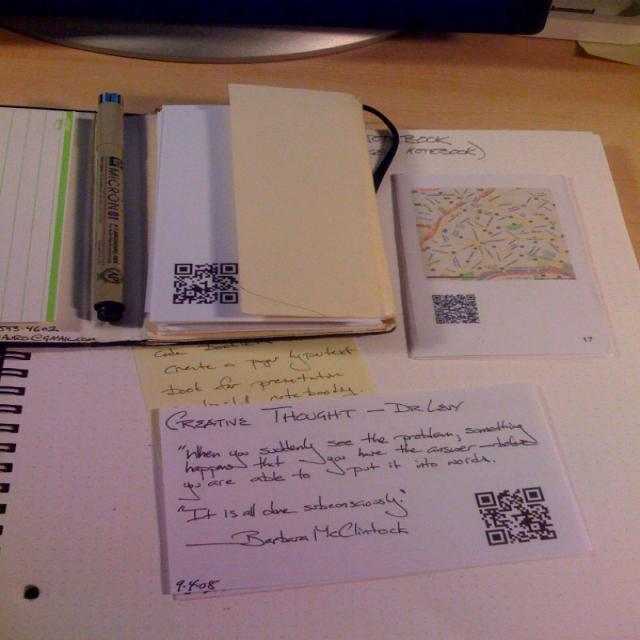qrcode: (475, 488, 558, 547), (174, 264, 239, 304), (433, 296, 481, 325)
